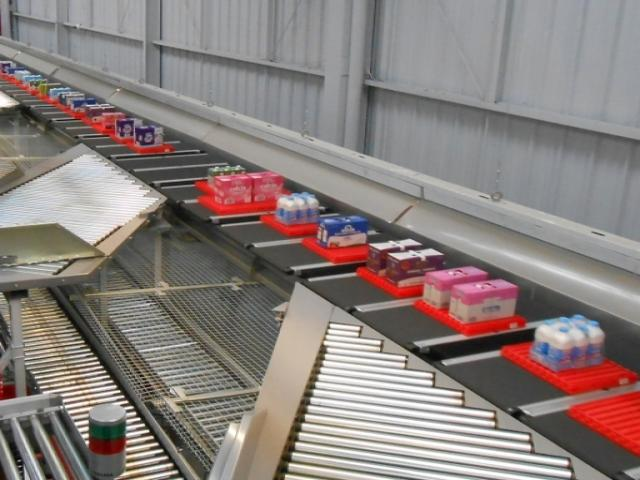conveyor: (0, 55, 640, 468)
